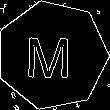M_N: (29, 30, 76, 81)
